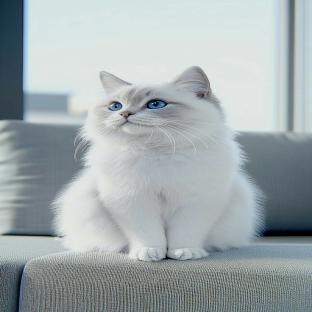Animal: (54, 67, 263, 262)
